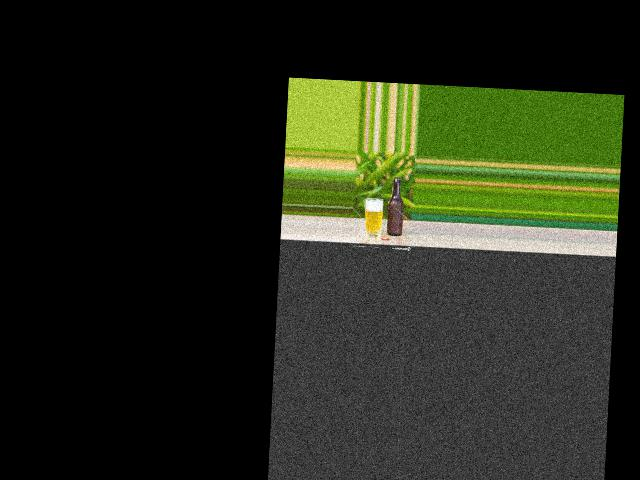beer: (386, 177, 404, 236)
